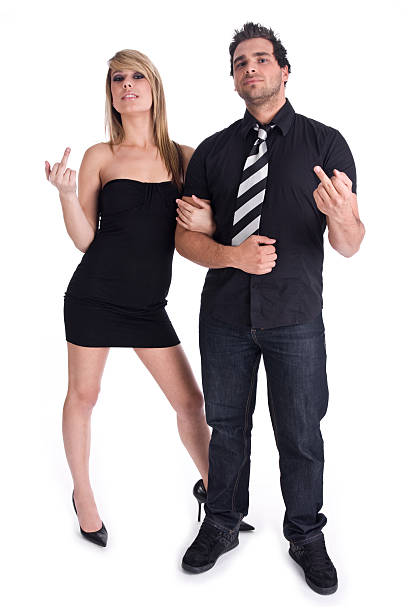insulting_gesture: (313, 167, 357, 219), (44, 144, 77, 196)
